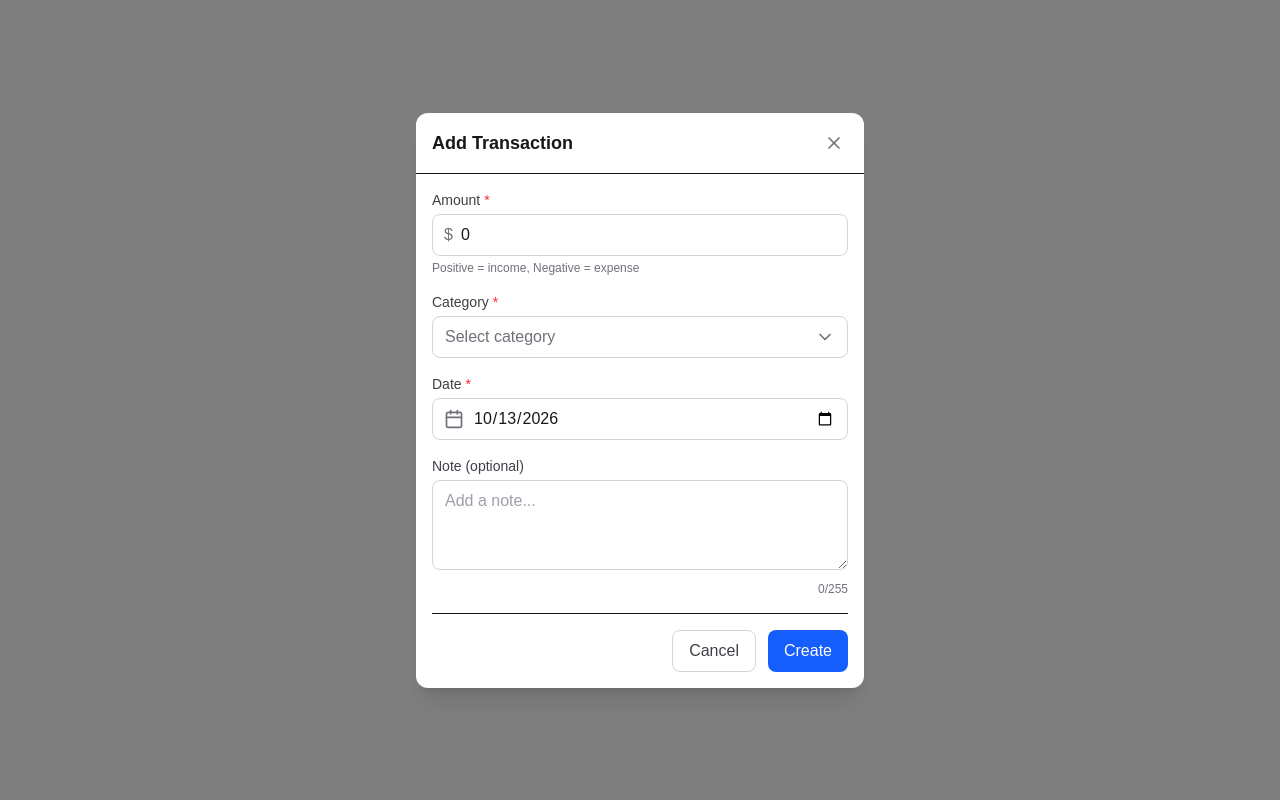
Test: TransactionForm › shows validation error for empty category
Replace the text in the number field labelled "Amount *" with "-25.50" at (640, 234), box left=432, top=214, right=848, bottom=256
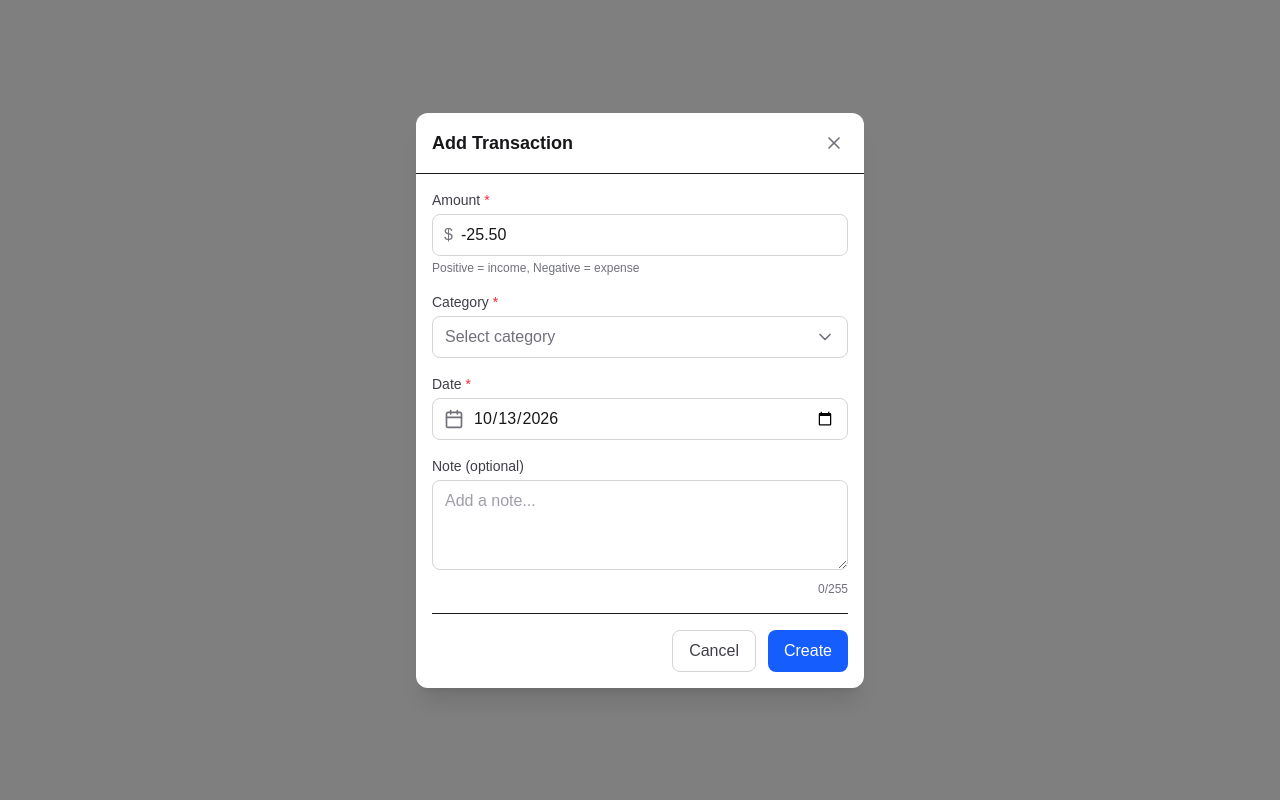
Click the button "Create".
click(808, 650)  # box left=768, top=630, right=848, bottom=672
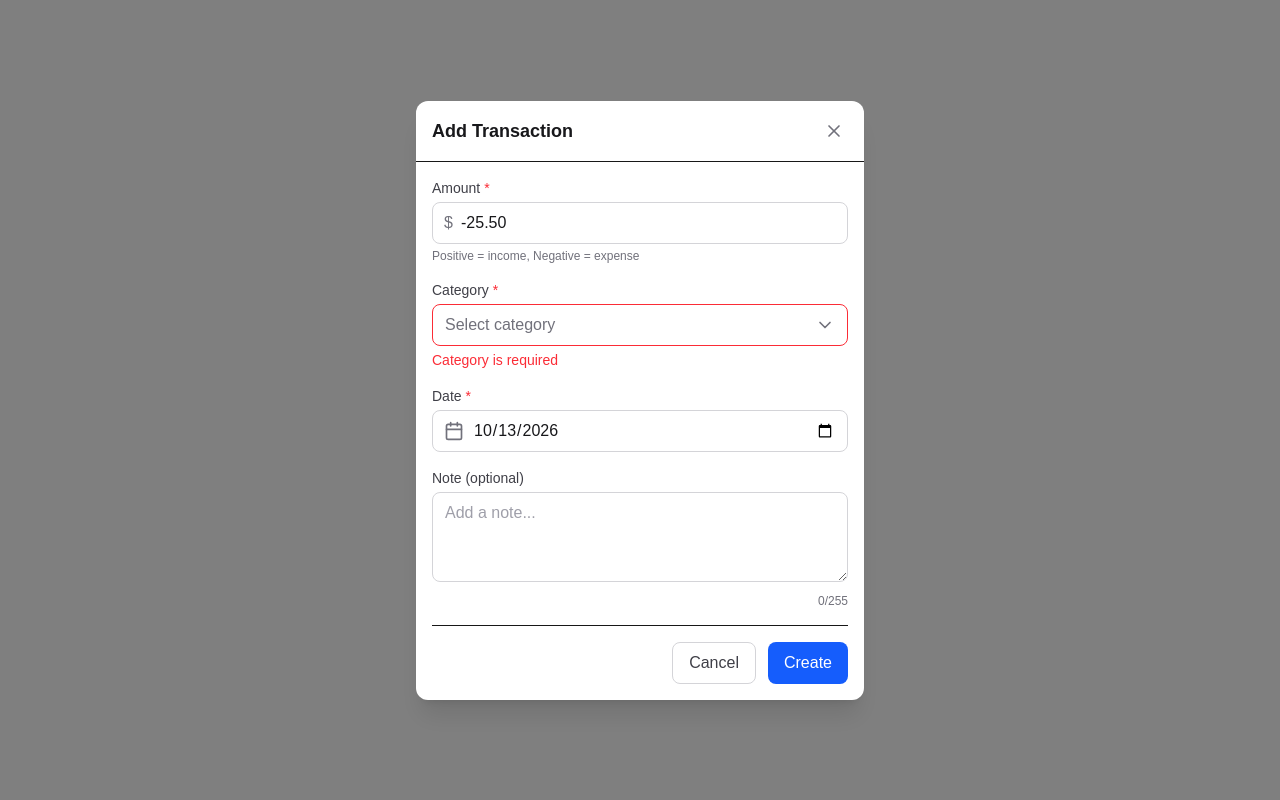
Expected: the text "Category is required" is shown, left=432, top=352, right=558, bottom=368
